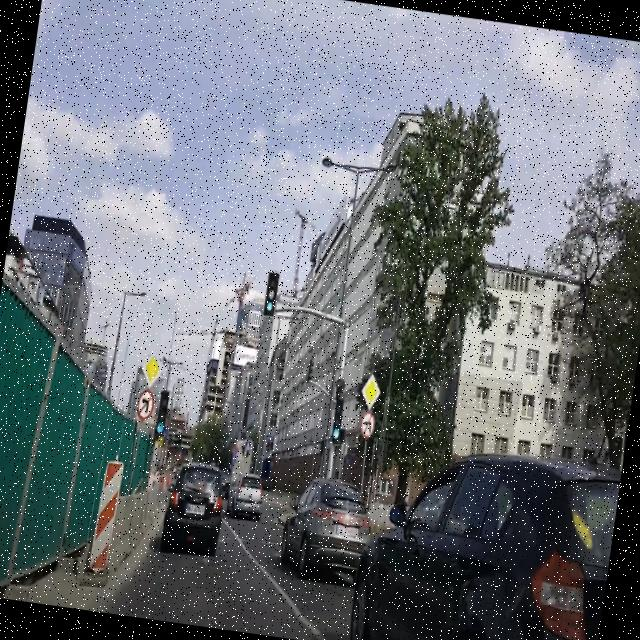Droga z pierwszenstwem: (358, 372, 384, 412), (139, 351, 165, 390)
